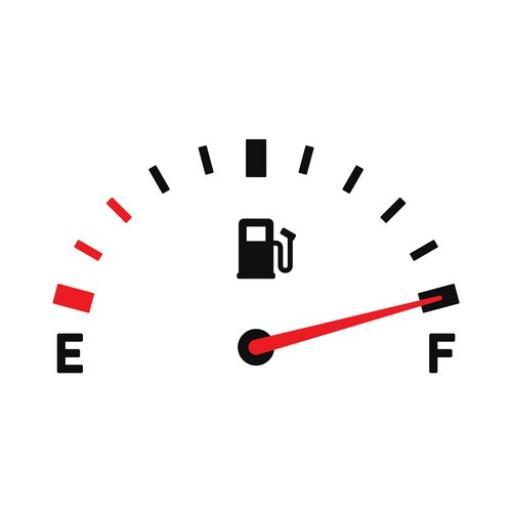empty: (54, 332, 84, 376)
fuel_icon: (235, 215, 297, 281)
full: (426, 330, 457, 378)
guage_area: (37, 135, 472, 398)
needle_center: (236, 325, 280, 367)
needle_tip: (410, 295, 444, 311)
